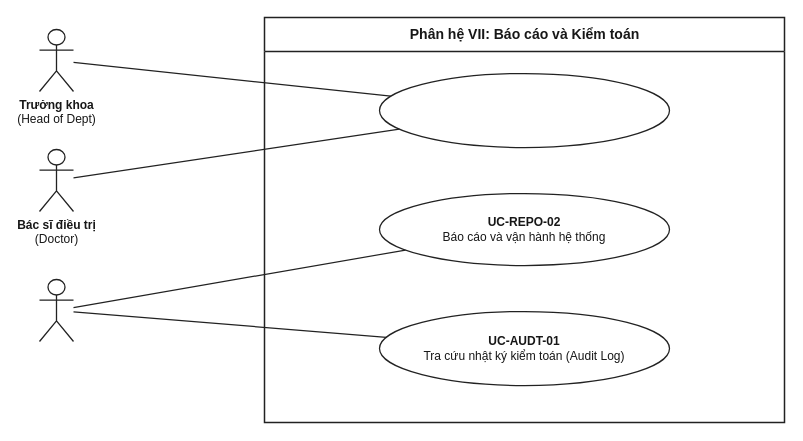
Some shapes in this 803 by 441 pixel diagram are drawn without their labels. Each missing label, with the centre of its shape:
Quản trị viên (Admin): [56,310]
UC-REPO-01 Xuất báo cáo thống kê (6 nhóm chuyên môn): [524,110]
